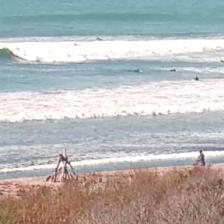surfer: (126, 69, 140, 74), (168, 68, 176, 74), (96, 37, 104, 41), (194, 76, 198, 82), (220, 59, 224, 64)
